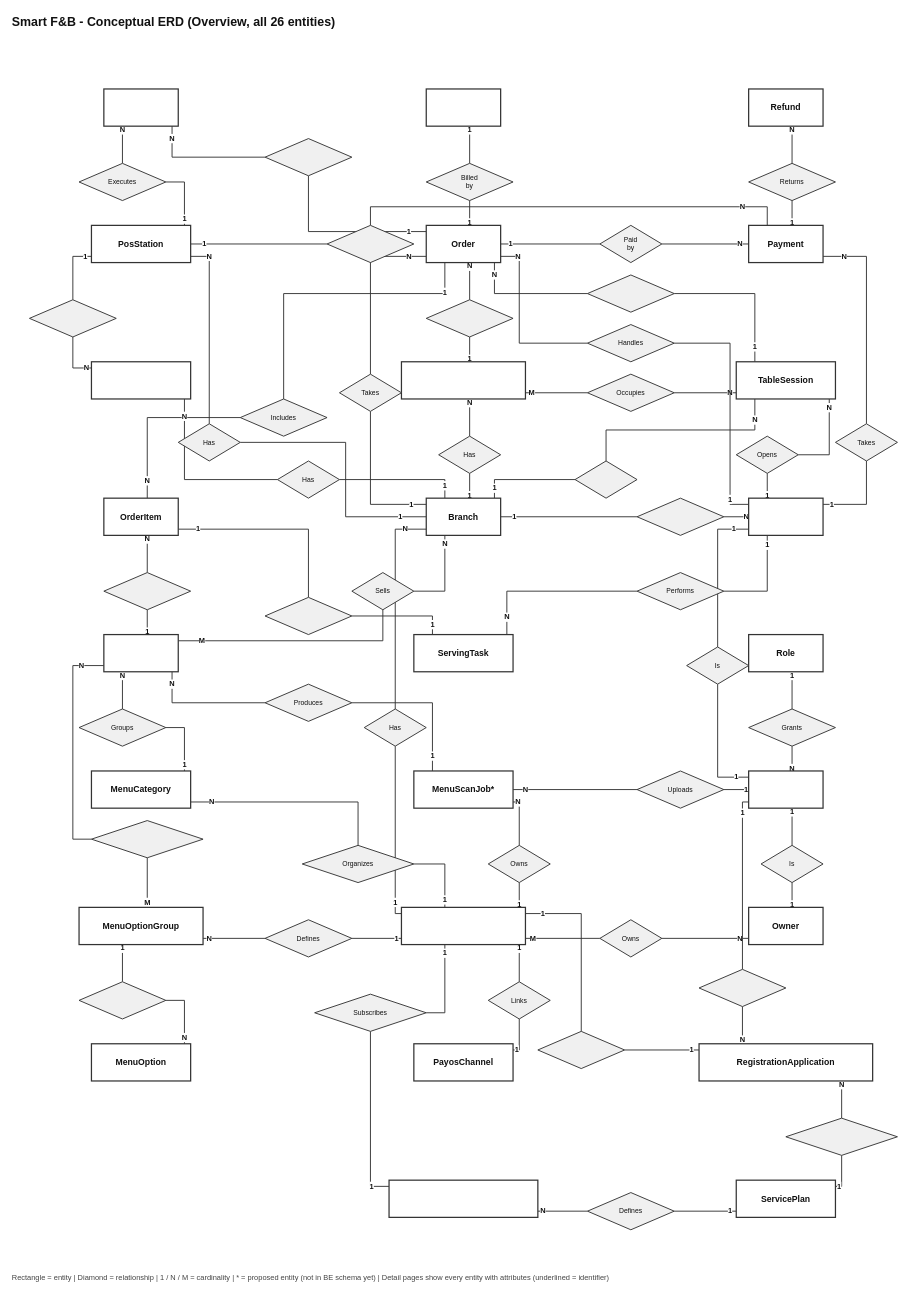
The diagram is 908 pixels wide and 1304 high, and some of its shapes have lost their labels. The shapes that lost their labels are listed below. From the top down, each one's centre as x and y in pixels, then its label:
At point (141, 107): "PrintJob".
At point (463, 107): "Invoice".
At point (308, 157): "Printed by".
At point (370, 244): "Receives".
At point (630, 293): "Contains".
At point (72, 318): "Drives".
At point (469, 318): "Serves".
At point (141, 380): "DisplayDevice".
At point (463, 380): "RestaurantTable".
At point (605, 479): "Hosts".
At point (680, 516): "Employs".
At point (785, 516): "Employee".
At point (147, 591): "Ordered as".
At point (308, 616): "Requires".
At point (141, 653): "MenuItem".
At point (785, 789): "User".
At point (147, 839): "Customized by".
At point (463, 925): "RestaurantChain".
At point (122, 1000): "Offers".
At point (742, 988): "Reviews".
At point (581, 1050): "Creates".
At point (841, 1136): "Requested by".
At point (463, 1198): "BusinessSubscription".
